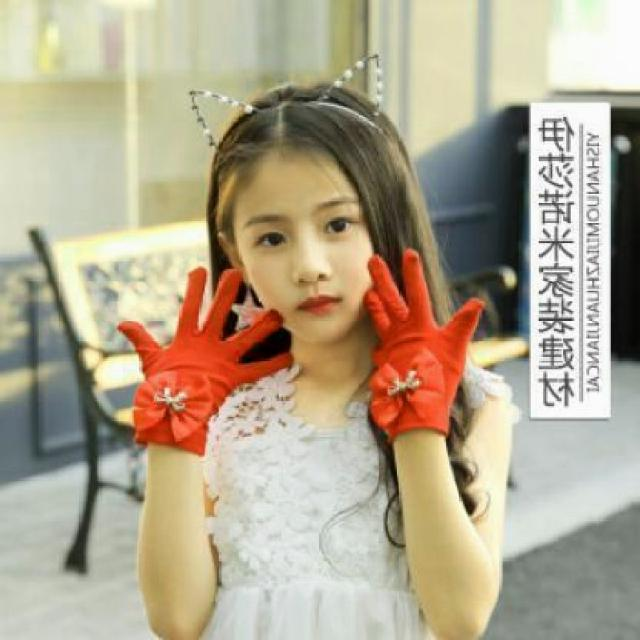face_nomask: (237, 174, 371, 323)
hand_glove: (118, 268, 294, 430), (360, 248, 492, 434)
head_nohelmet: (183, 60, 422, 194)
person: (118, 51, 534, 640)
